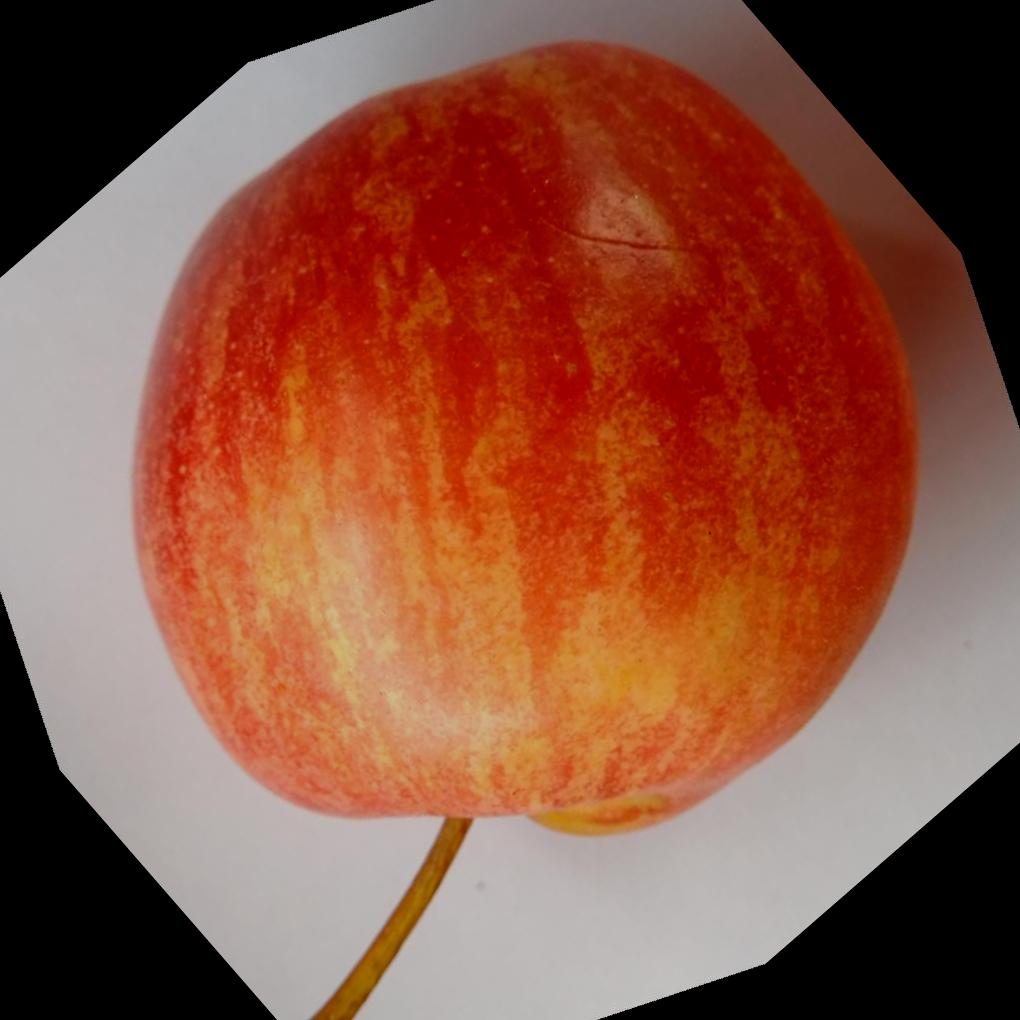FreshGuava: (128, 40, 923, 841)
